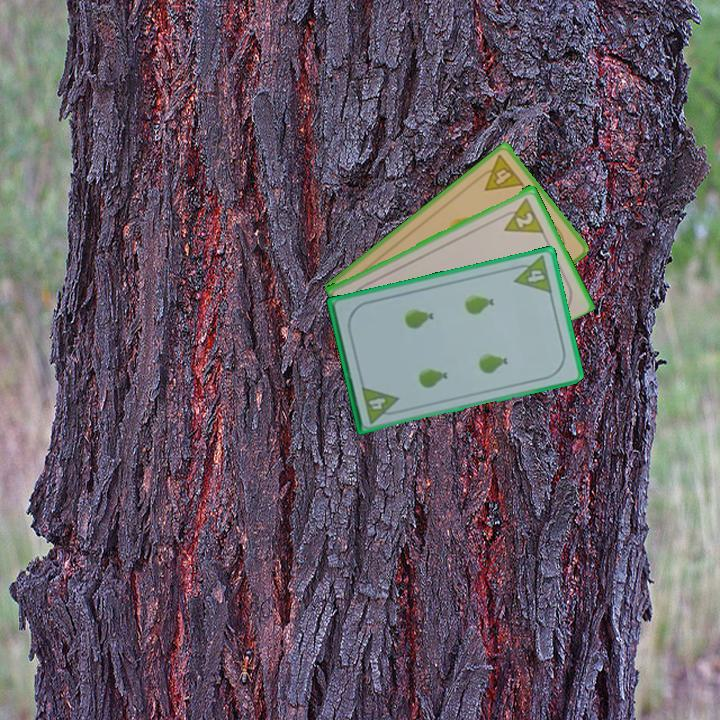2p: (496, 194, 546, 236)
4p: (473, 151, 527, 194), (508, 252, 555, 296), (358, 382, 403, 426)
